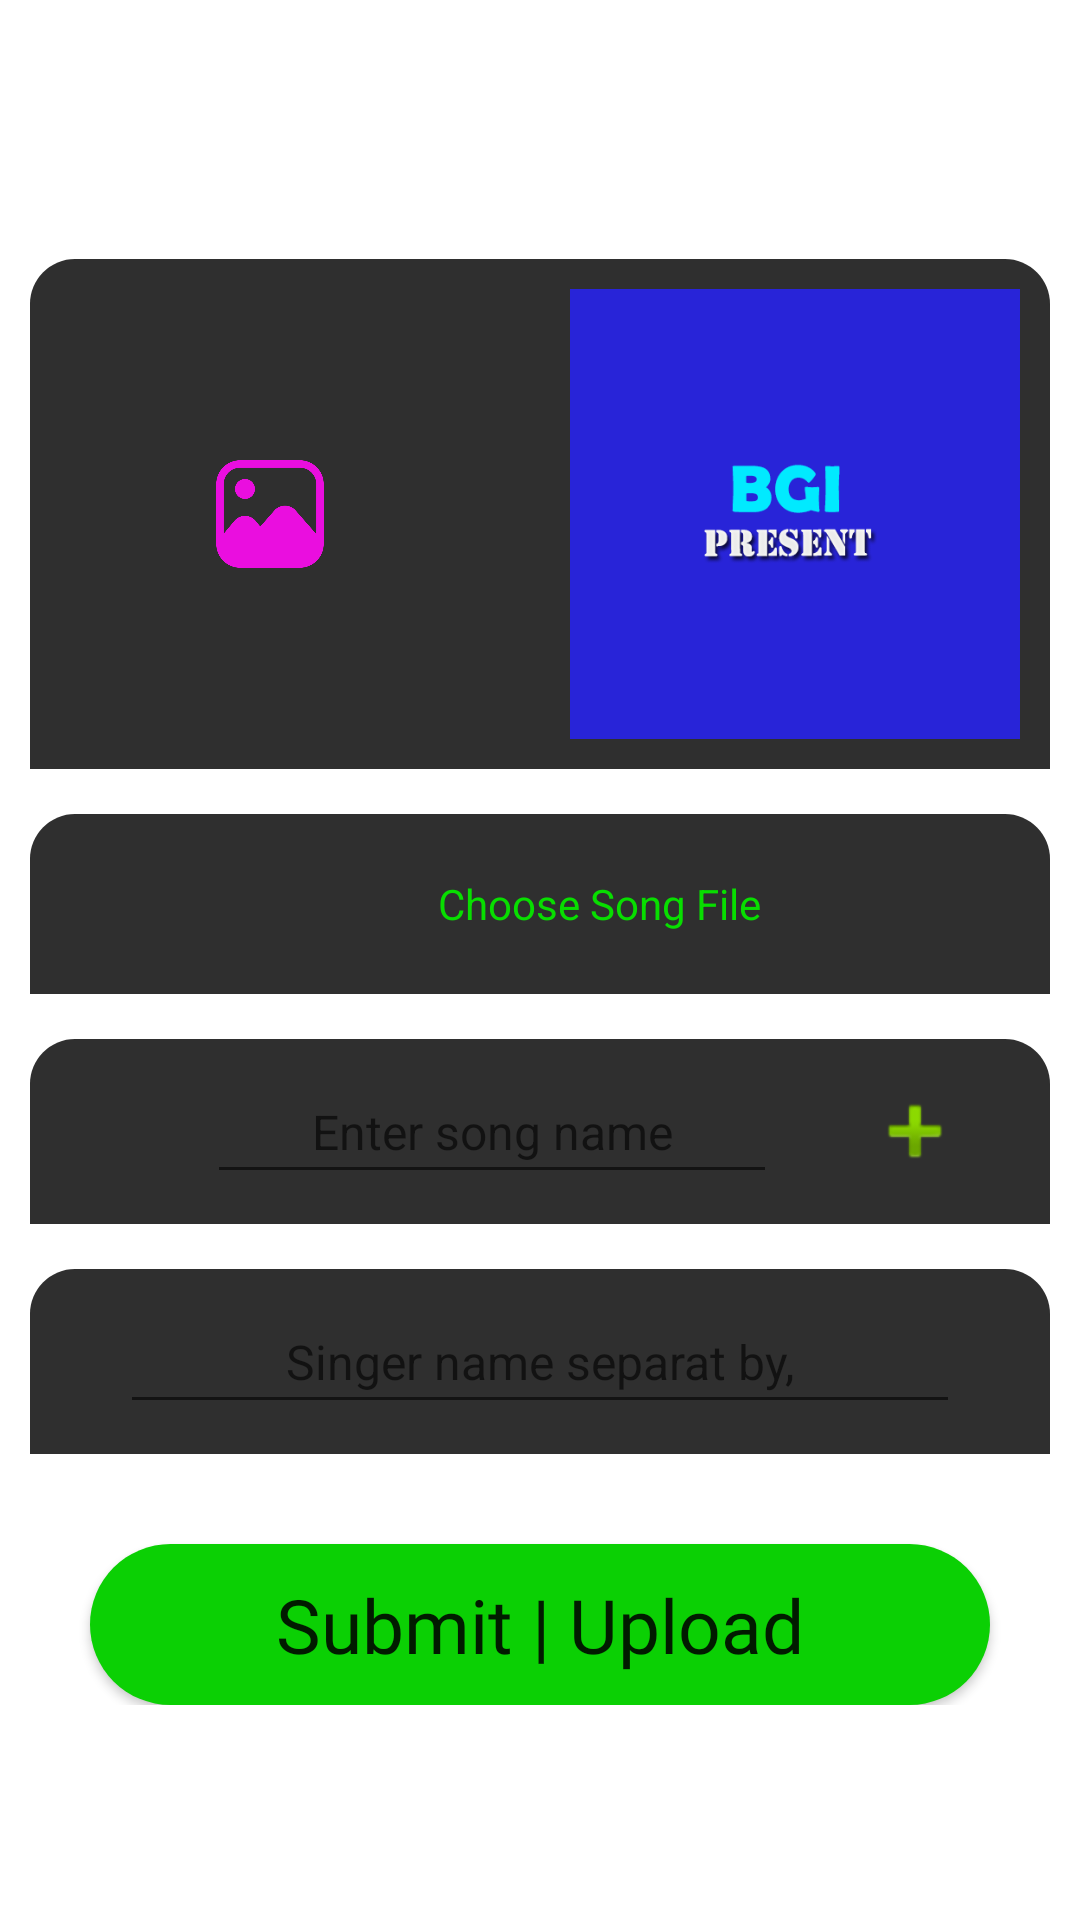

Where to tap for icons on this 1080 x 1920 app screen, as point (x, y):
add: point (915, 1131)
gallary: point (270, 514)
